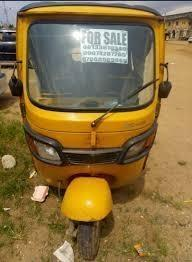keke: (12, 1, 169, 258)
